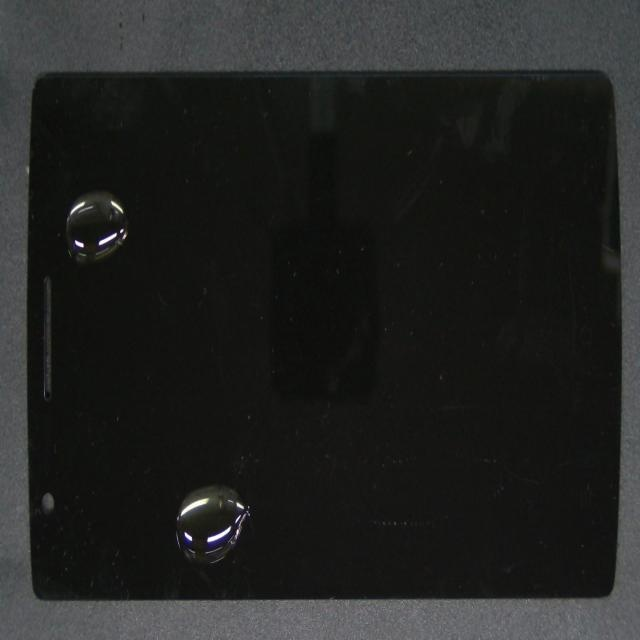oil: (125, 286, 375, 640), (54, 146, 188, 352)
